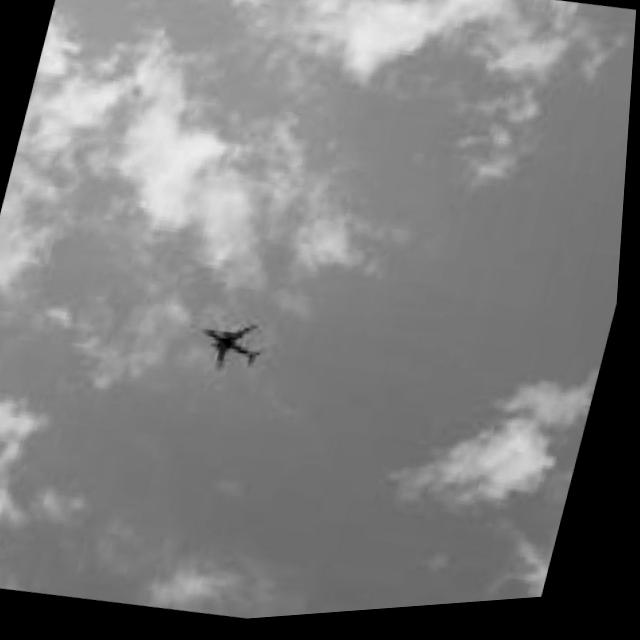aeroplane: (198, 316, 282, 385)
